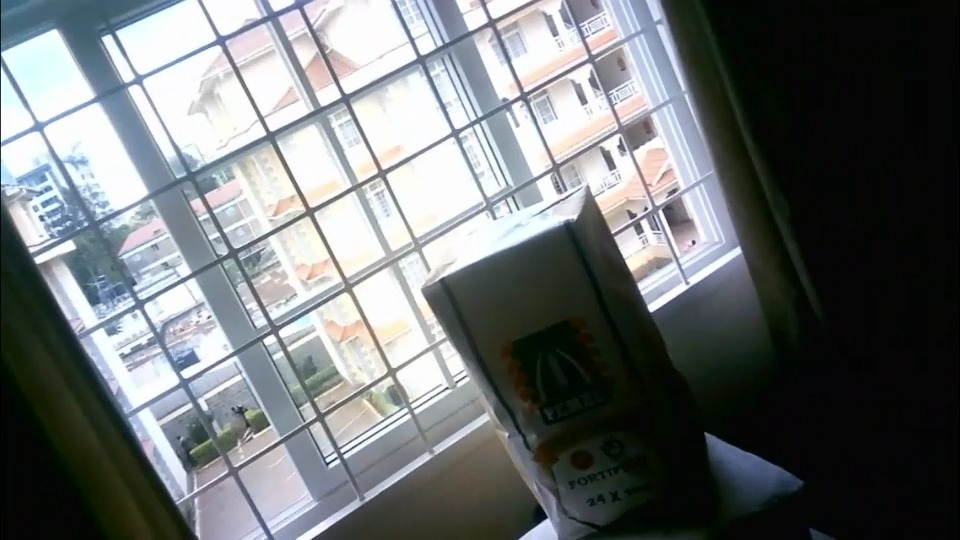maize_flour_green_label: (423, 186, 684, 539)
